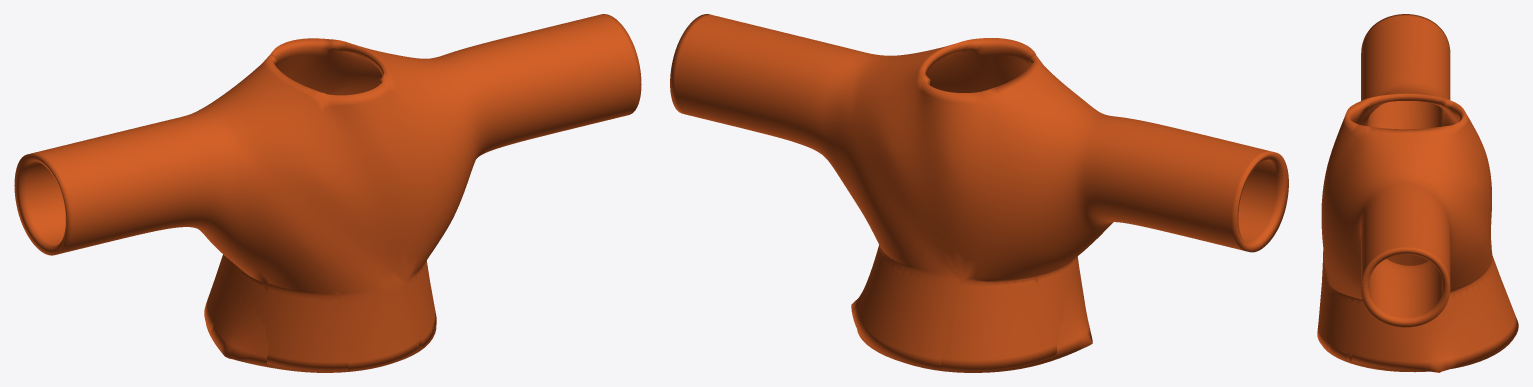
The model's file is clothes_model_1.gltf.
3 renders of one model, left to right at view 1: azimuth 30°, elevation 25°; view 2: azimuth 150°, elevation 25°; view 3: azimuth 270°, elevation 25°, orthographic. The views are drawn at different scales.
Visible parts, largest first — view 1: clothes; view 2: clothes; view 3: clothes.
Boxes of the visible parts, x1=… form: clothes: x1=14, y1=14, x2=641, y2=372; clothes: x1=670, y1=14, x2=1288, y2=372; clothes: x1=1317, y1=14, x2=1518, y2=372.
Size of the model in its own units: 1.79 by 0.792 by 0.6487.
